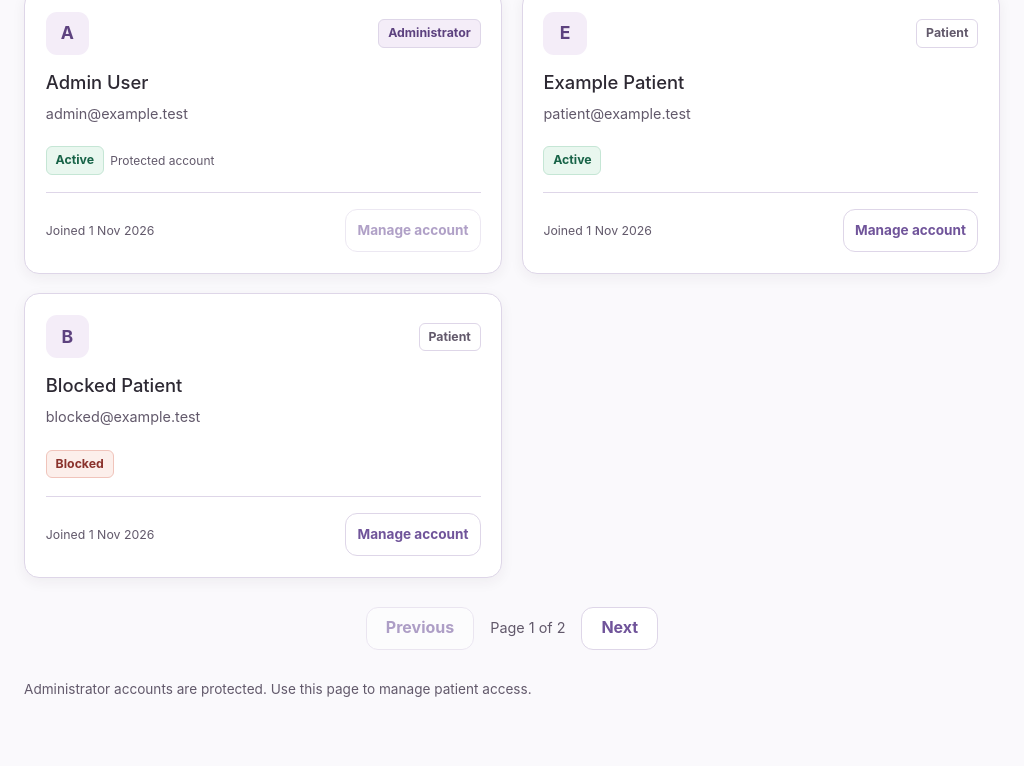
administrator user management › paginates through real server totals and clamps an emptied final page
(page scrolled)
Click the button "Next".
click(620, 628)  # box [581,606,658,650]
(page scrolled)
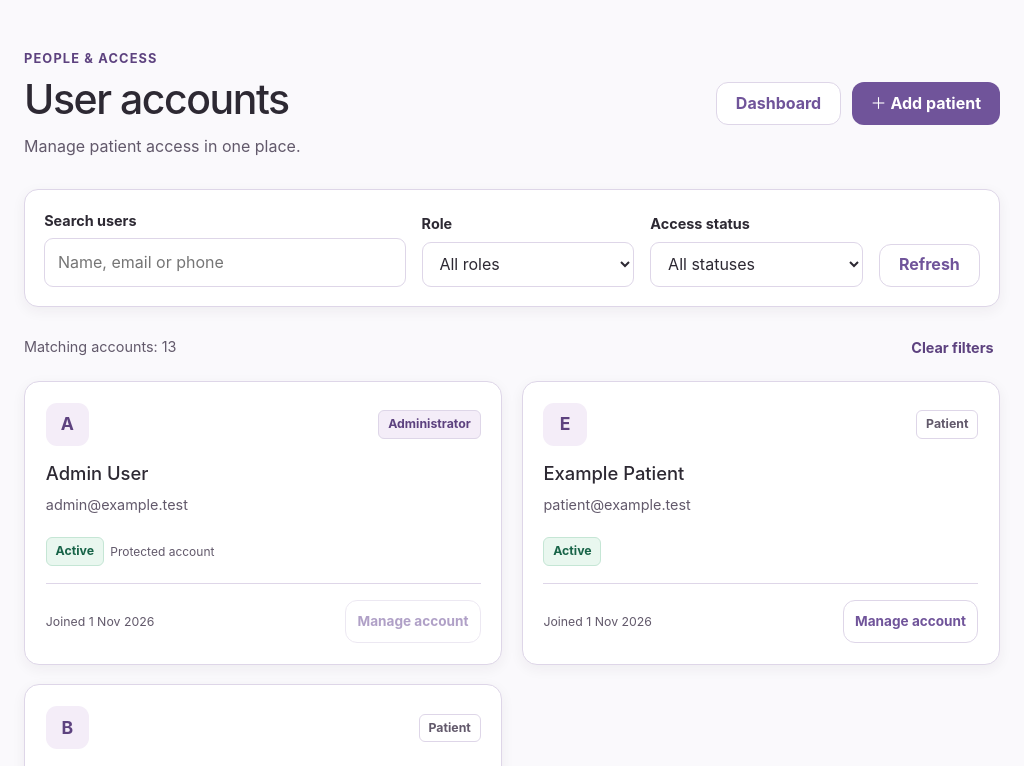
Click the button "Refresh".
click(929, 265)  # box [879,244,980,287]
(page scrolled)
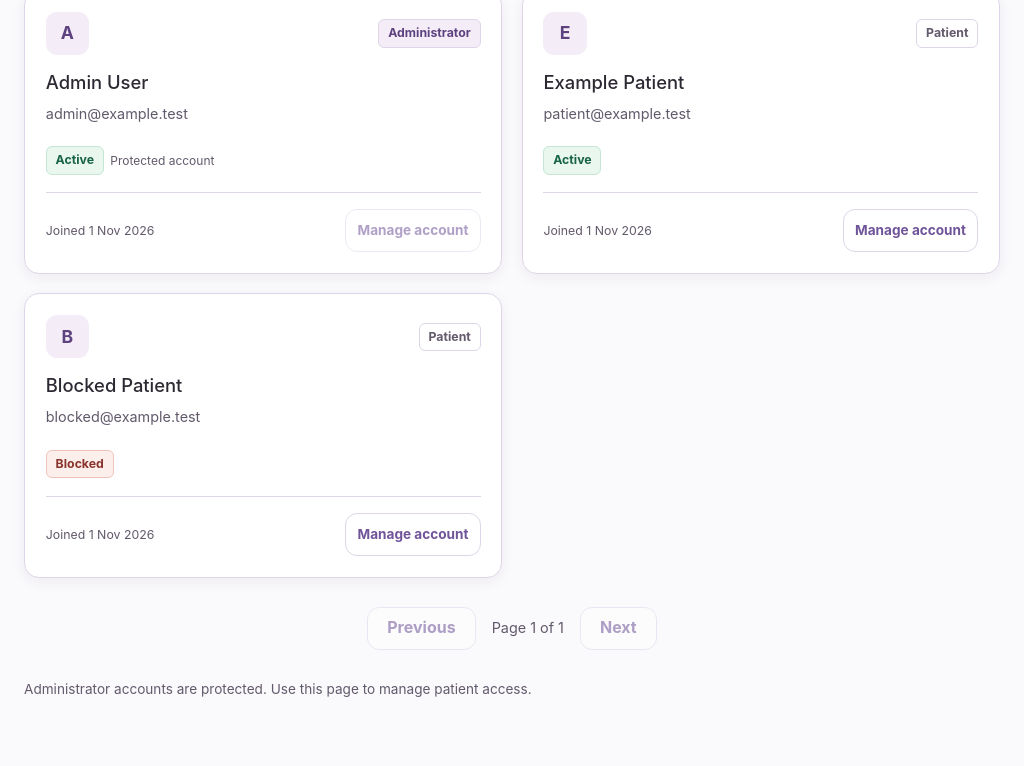
Now the button "Next" is disabled, box [580,606,657,650]
Now the text "Page 1 of 1" is shown, box [492,616,564,640]
